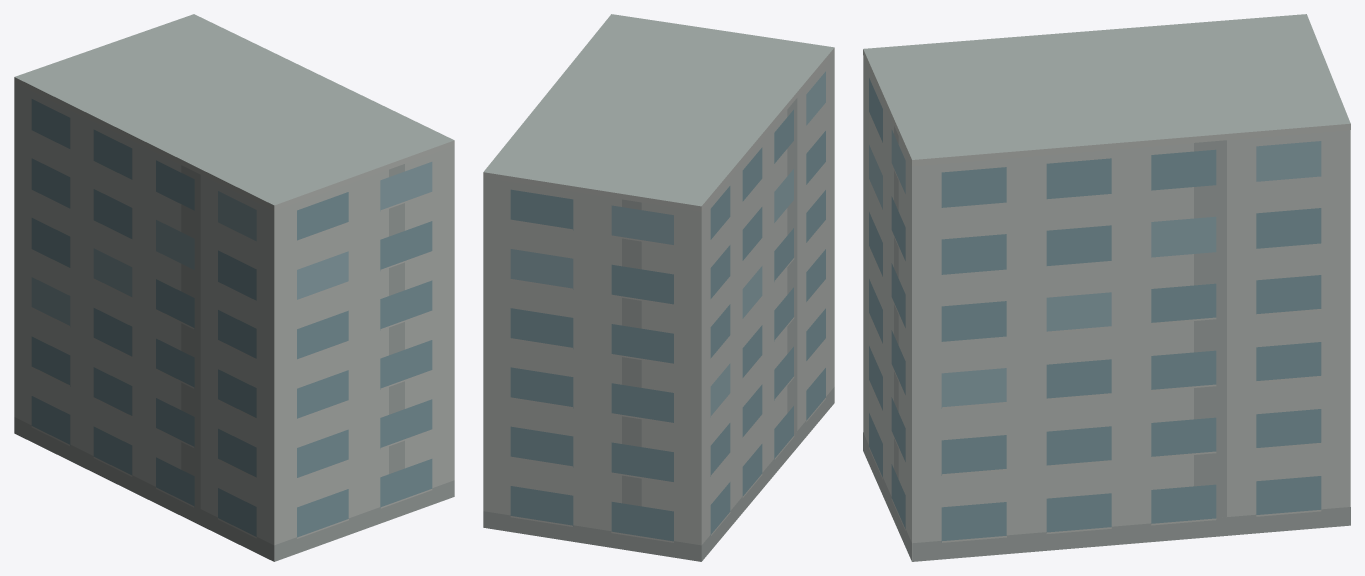
The model's file is survey-upis-32882712.glb.
The picture shows the model from 3 angles, left to right: view 1: azimuth 30°, elevation 25°; view 2: azimuth 150°, elevation 25°; view 3: azimuth 270°, elevation 25°; orthographic projection. The views are drawn at different scales.
Visible parts, largest first — view 1: survey-upis-32882712.tmp; view 2: survey-upis-32882712.tmp; view 3: survey-upis-32882712.tmp.
Boxes of the visible parts, bbox=[...] form: survey-upis-32882712.tmp: bbox=[14, 14, 454, 561]; survey-upis-32882712.tmp: bbox=[483, 14, 834, 561]; survey-upis-32882712.tmp: bbox=[863, 14, 1350, 561].
Size of the model in its own units: 12.24 by 15.7 by 17.28.
